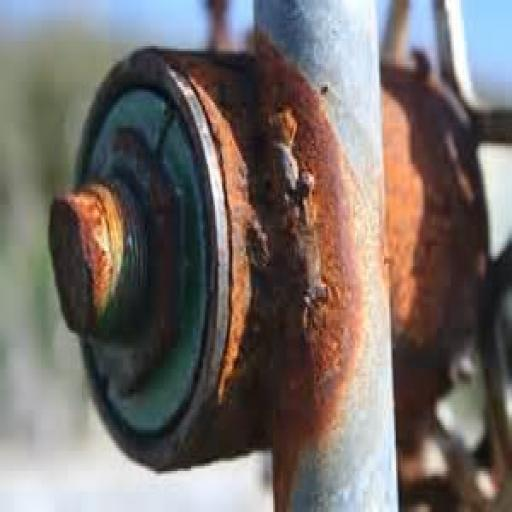segmentation: (49, 36, 360, 509)
